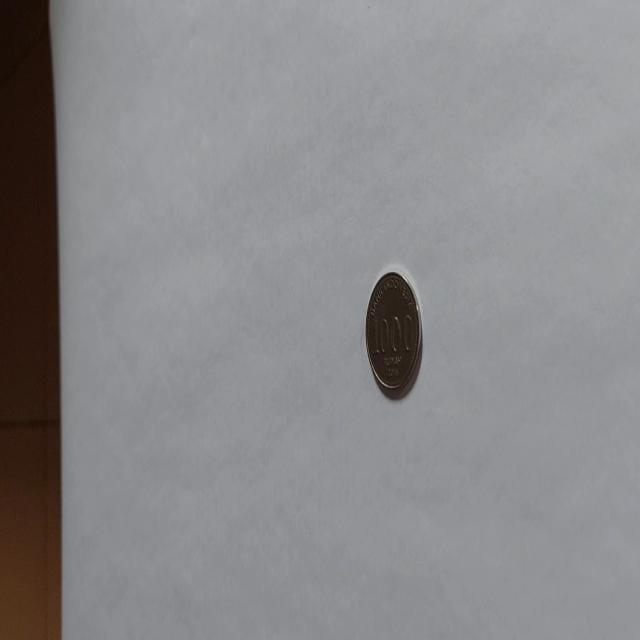seribu rupiah koin: (363, 268, 422, 400)
